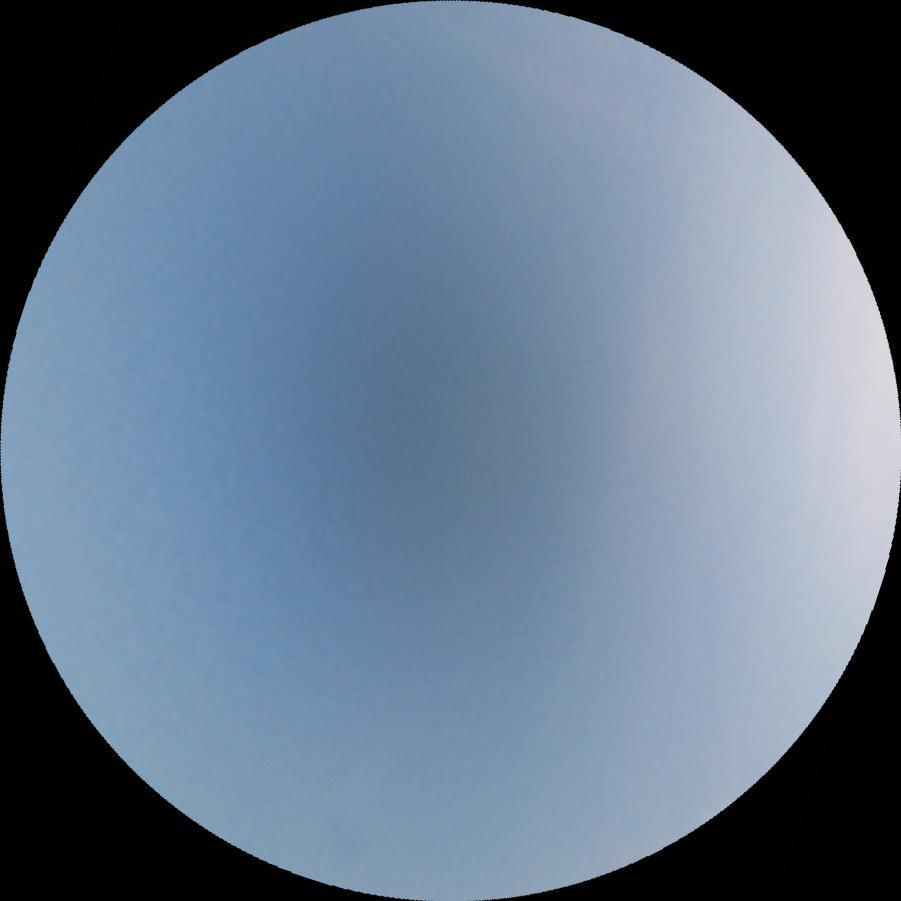contrail young: (347, 6, 406, 56)
